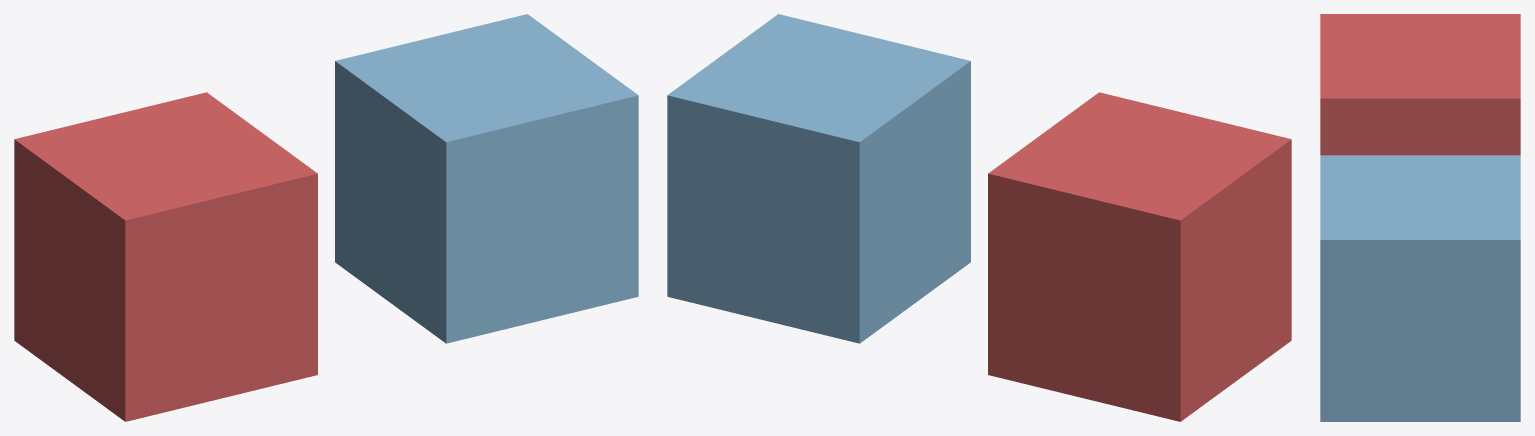
File: gltf-layers.gltf
The picture shows the model from 3 angles, left to right: view 1: azimuth 30°, elevation 25°; view 2: azimuth 150°, elevation 25°; view 3: azimuth 270°, elevation 25°; orthographic projection. The views are drawn at different scales.
Visible parts, largest first — view 1: GltfB, GltfA; view 2: GltfB, GltfA; view 3: GltfB, GltfA.
Part boxes in pixels (x1,y1,x2,y2): GltfB: (335,14,638,343); GltfA: (14,92,317,421); GltfB: (667,14,970,343); GltfA: (988,92,1291,421); GltfB: (1320,155,1520,421); GltfA: (1320,14,1520,155).
Bounding box in the file's own units: 0.016 × 0.006 × 0.006.
